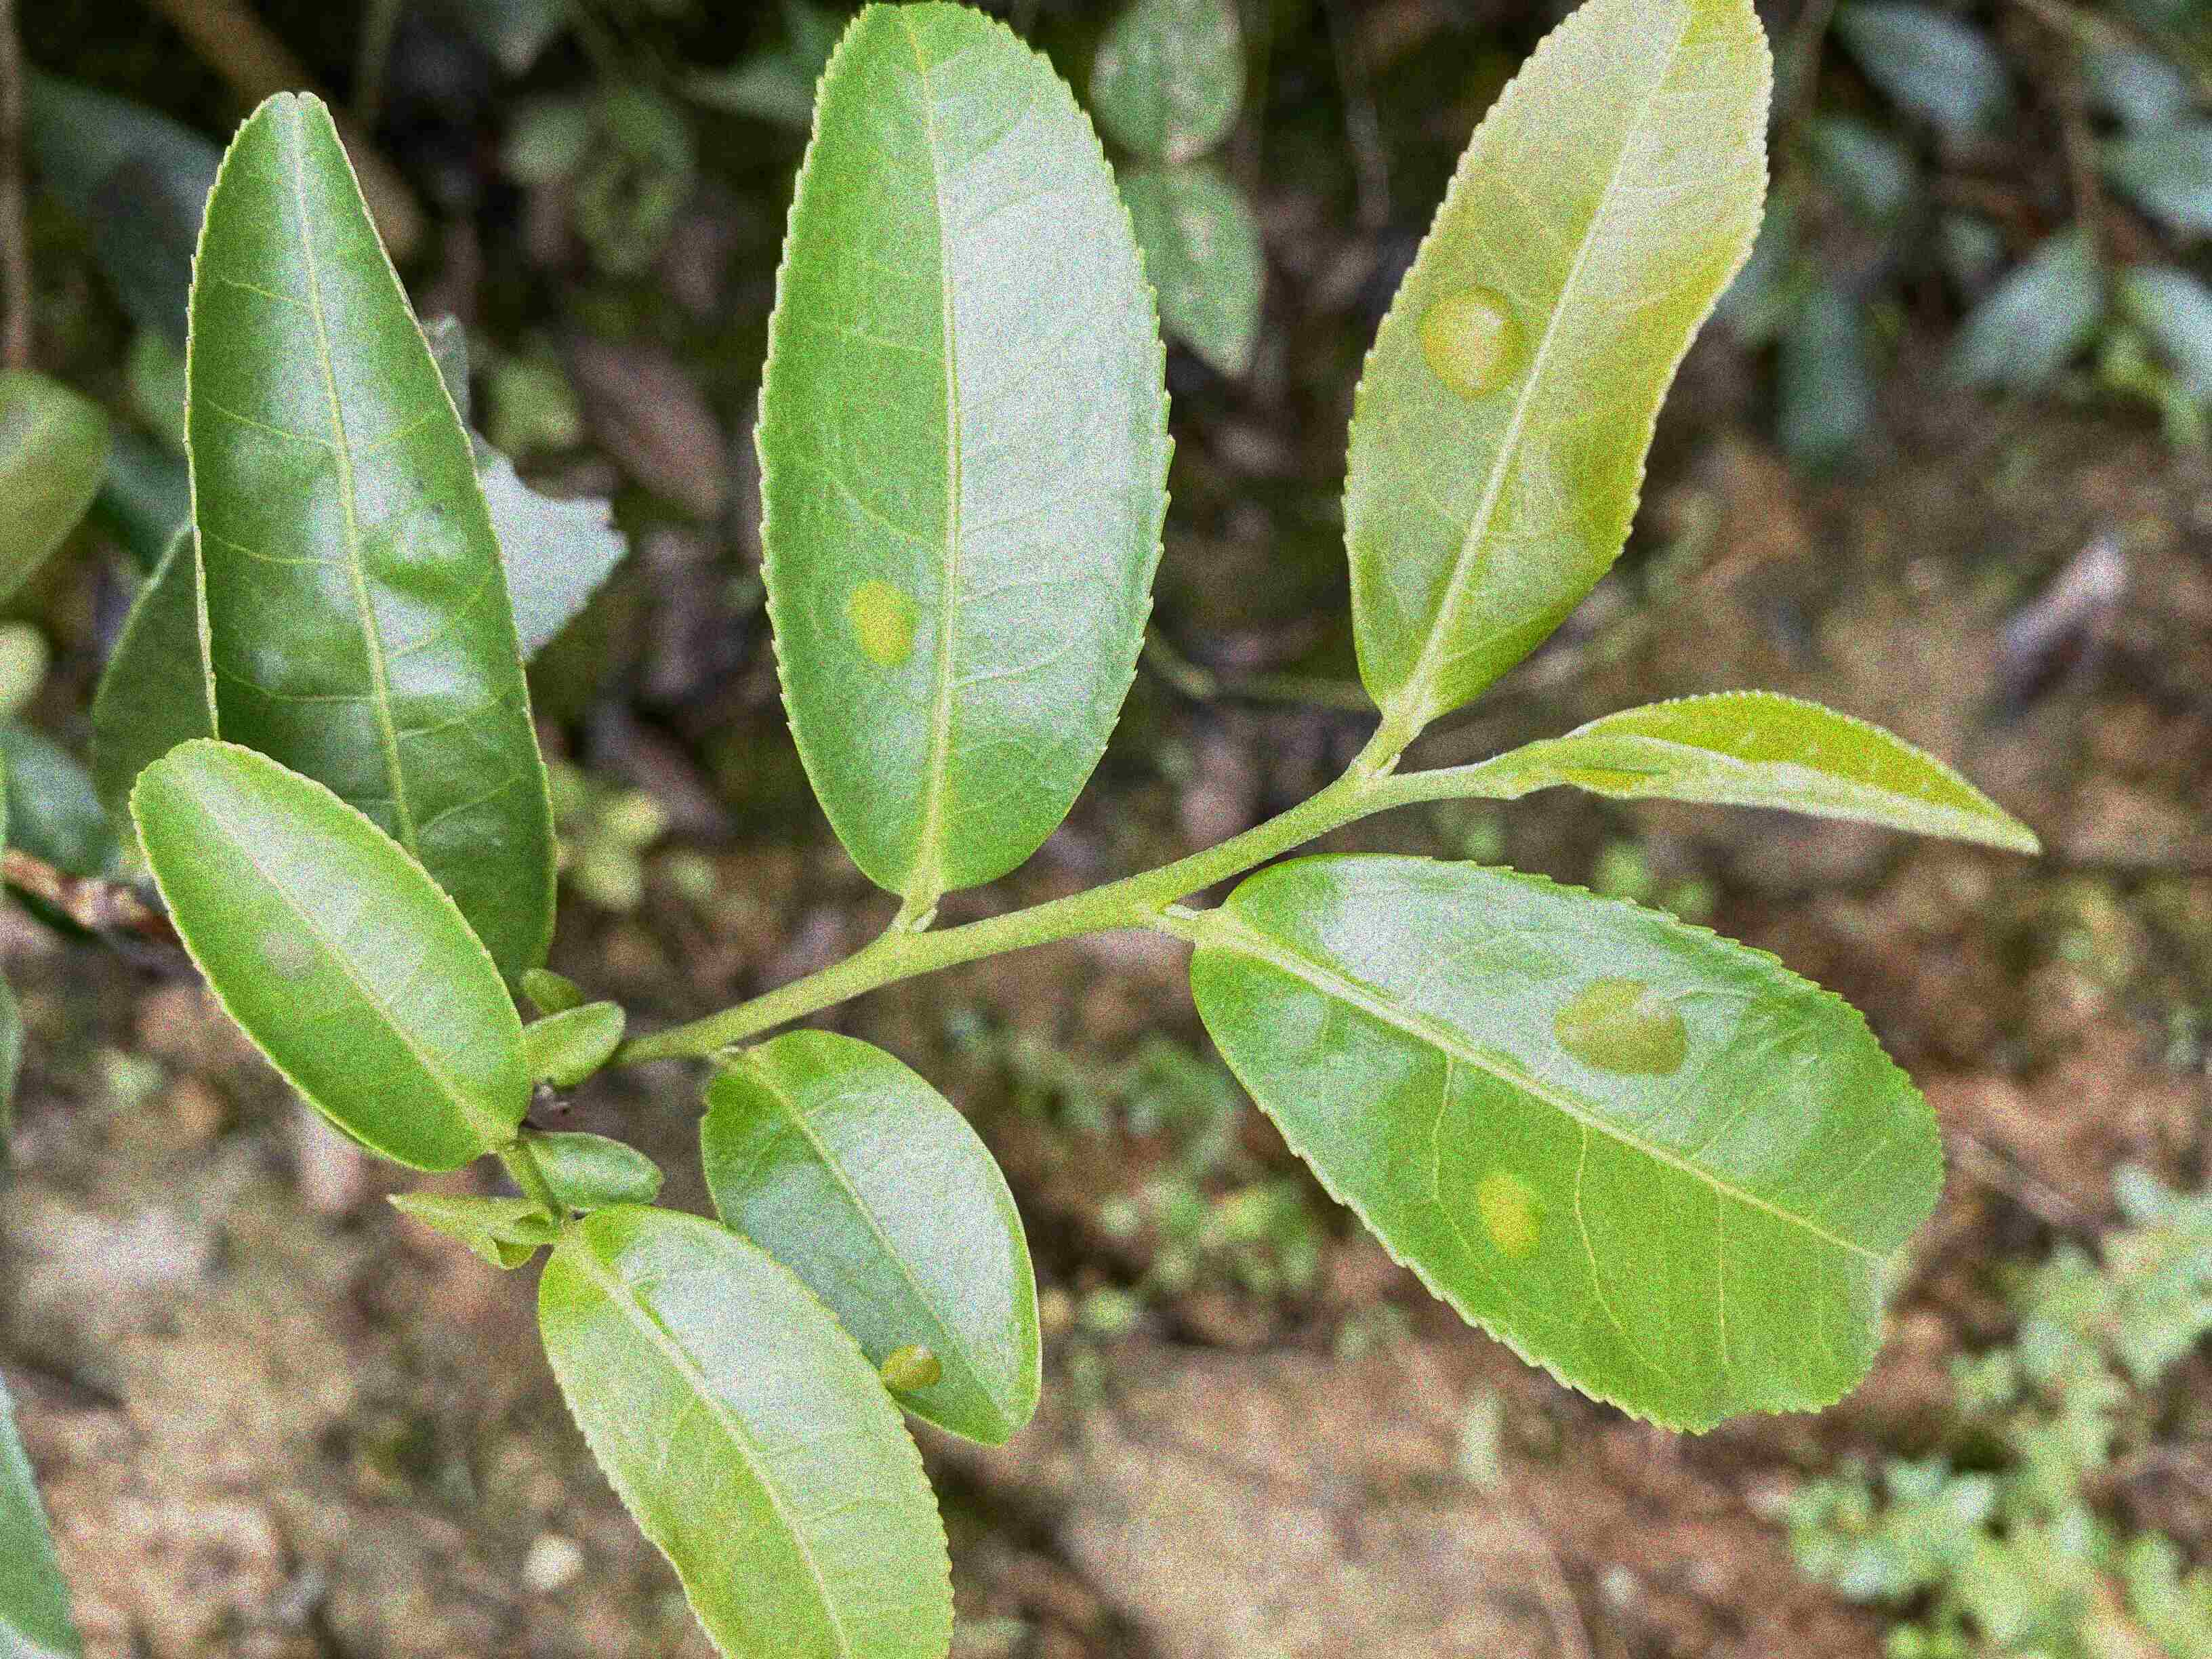chabing_high: (1188, 847, 1946, 1436)
chabing_low: (754, 0, 1179, 897), (1339, 7, 1778, 721), (124, 735, 535, 1175), (700, 1026, 1045, 1448)
healthy: (538, 1213, 956, 1657)
